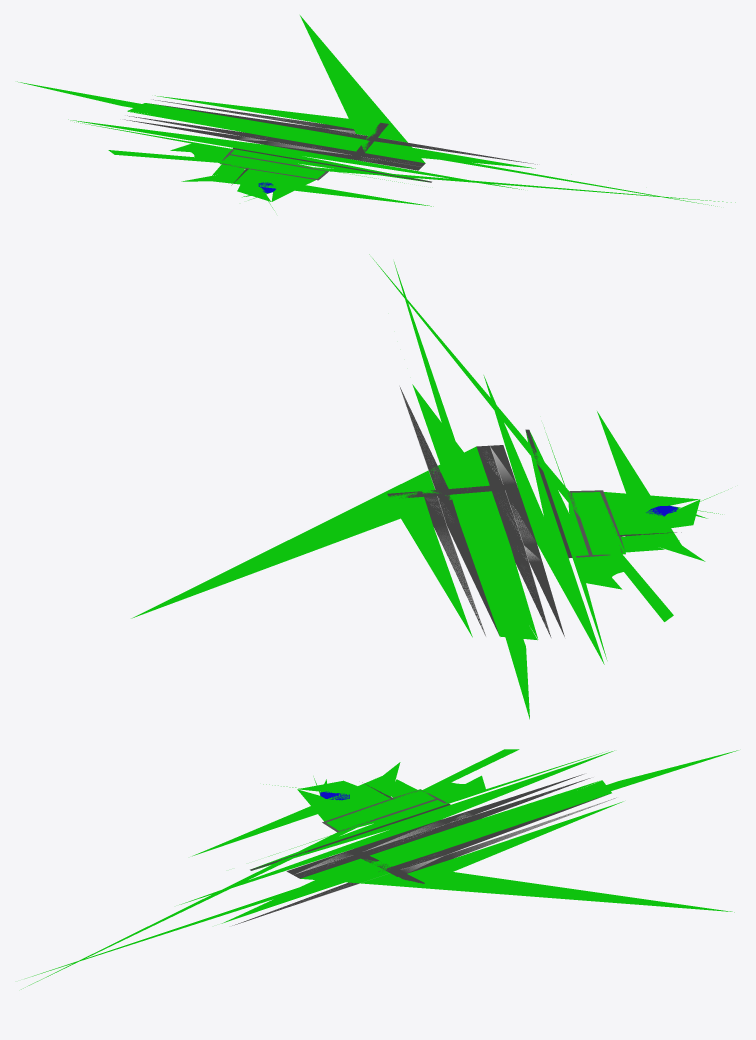
3 views of the same model, one above another, from view 1: azimuth 30°, elevation 25°; view 2: azimuth 150°, elevation 25°; view 3: azimuth 270°, elevation 25° (orthographic). The views are drawn at different scales.
Size of the model in its own units: 208 by 0.001 by 231.
